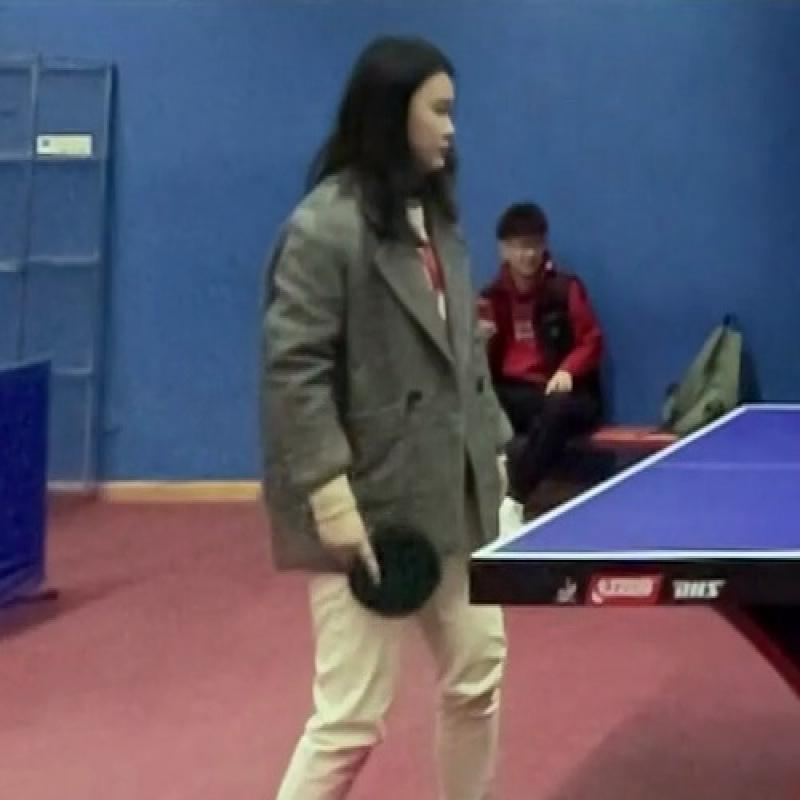bats: (344, 507, 455, 635)
